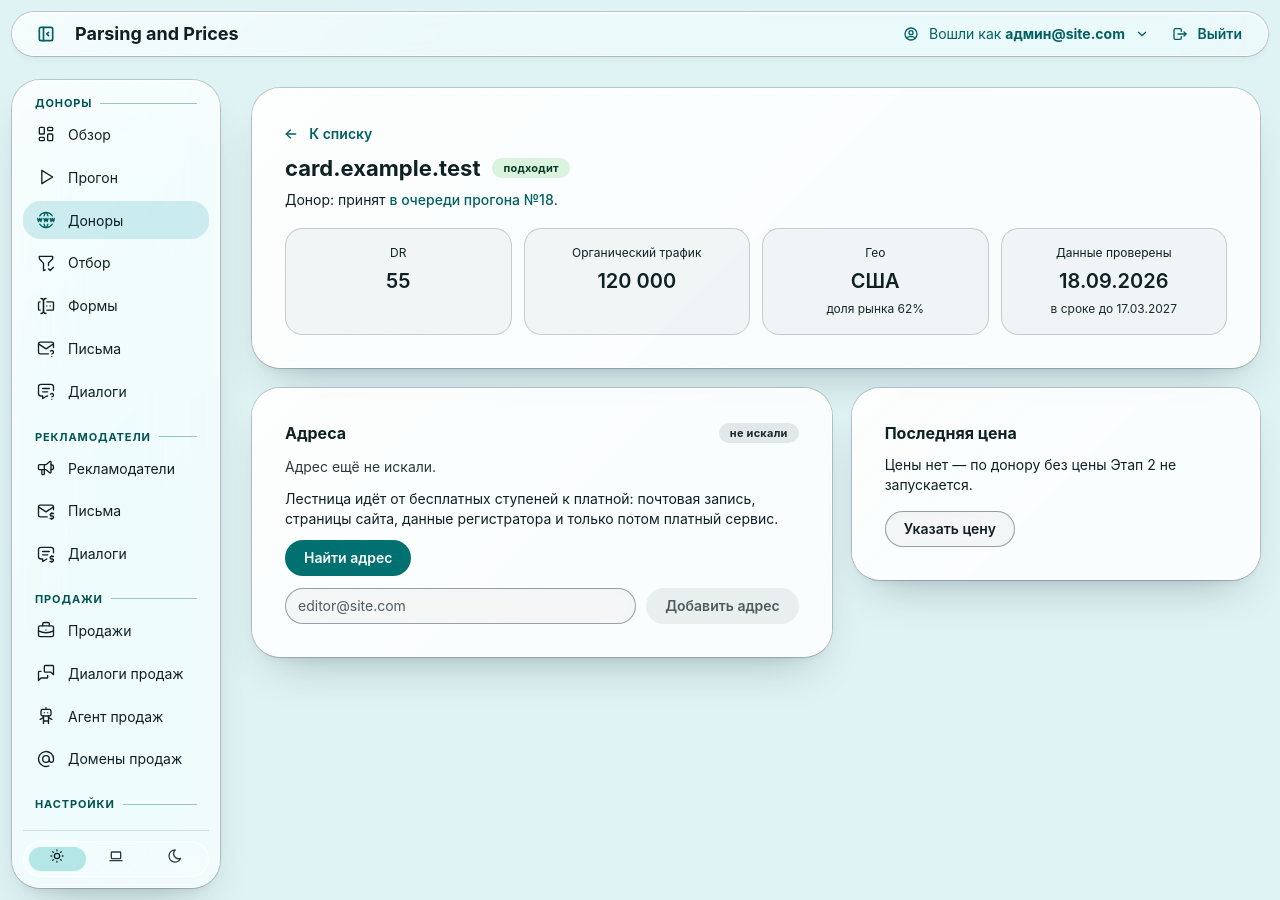
it: карточка донора: адреса › адреса нет, правило пускает — поиск ставится этому донору
The image size is (1280, 900).
Check: the heading "card.example.test" is shown, box [285, 153, 480, 184]
Check: the text "Адрес ещё не искали." is shown, box [285, 458, 436, 475]
Click the button "Найти адрес": (348, 558) [285, 540, 412, 576]
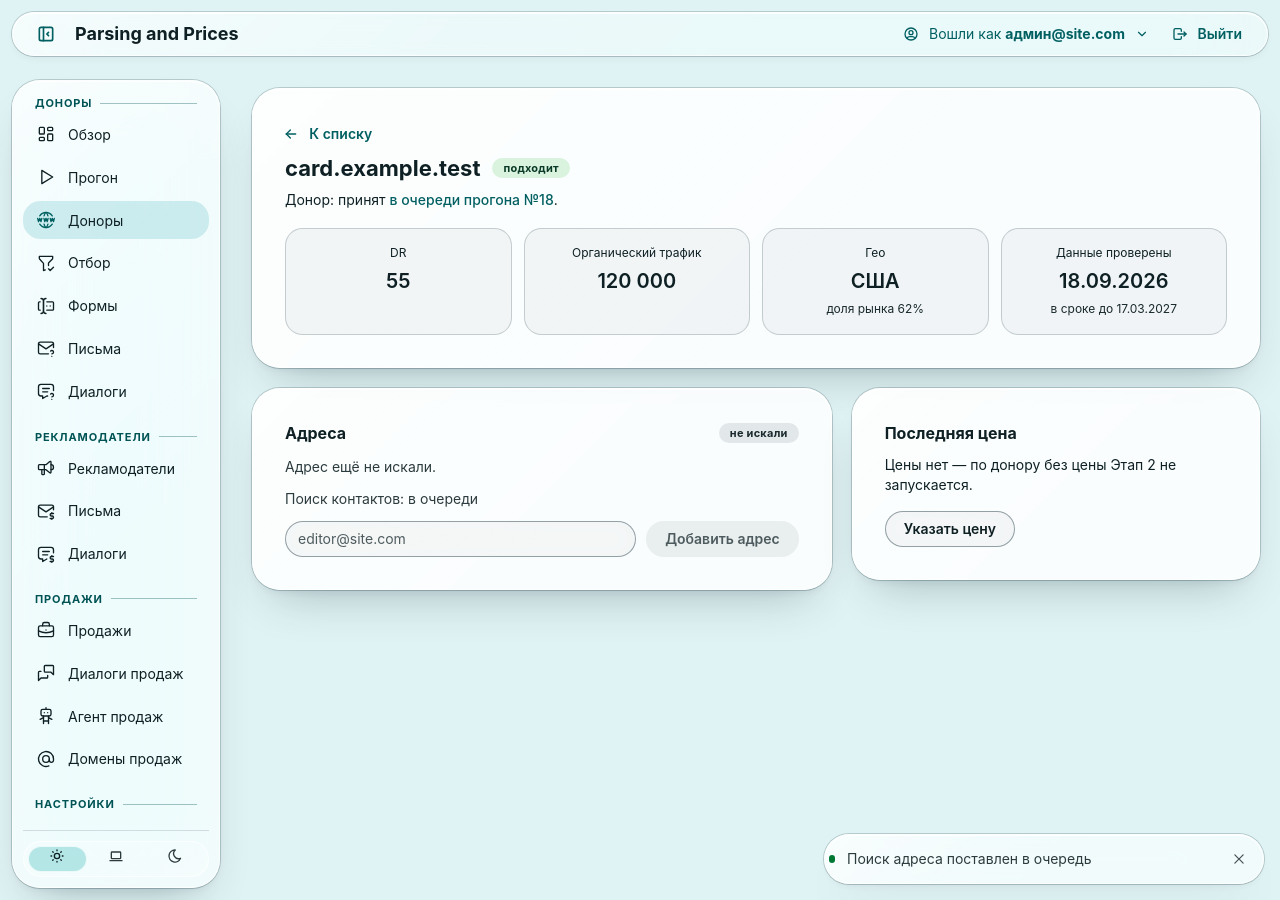
Check: the text "Поиск адреса поставлен в очередь" is shown, box [847, 850, 1092, 867]
Check: the message "Поиск контактов: в очереди" is shown, box [285, 490, 478, 507]
Check: the button "Найти адрес" is gone
